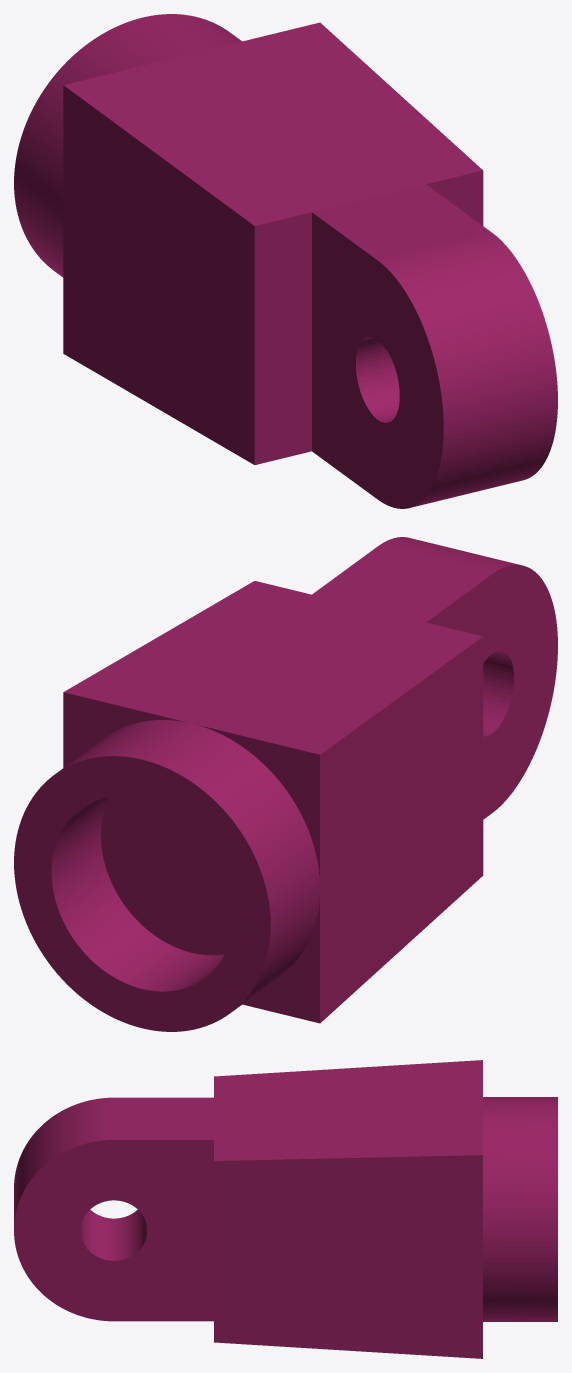
3 renders of one model, top to bottom at view 1: azimuth 30°, elevation 25°; view 2: azimuth 150°, elevation 25°; view 3: azimuth 270°, elevation 25°, orthographic. The views are drawn at different scales.
Visible parts, largest first — view 1: node; view 2: node; view 3: node.
Part boxes in pixels (left/top/right/bottom): node: left=14, top=14, right=557, bottom=508; node: left=14, top=537, right=557, bottom=1031; node: left=14, top=1060, right=557, bottom=1358.
Bounding box in the file's own units: 0.0627 × 0.0627 × 0.1518.
